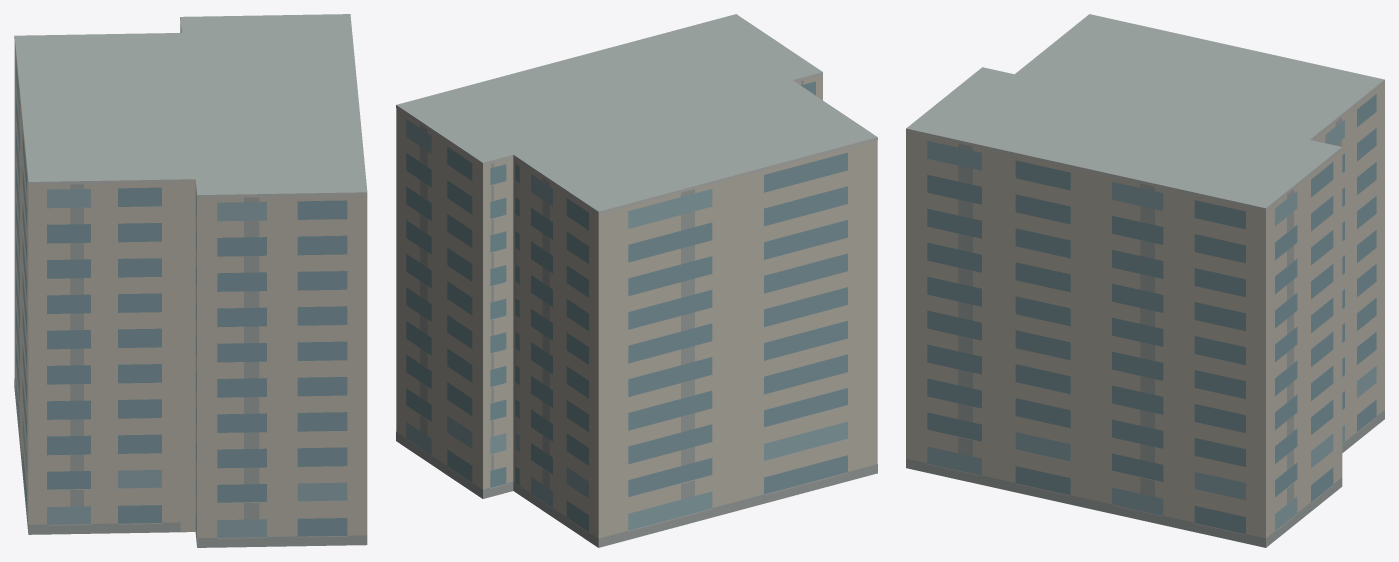
The model's file is residential-e94d6ee8-cdf1-474d-9409-2f970b8af19c.glb.
The picture shows the model from 3 angles, left to right: view 1: azimuth 30°, elevation 25°; view 2: azimuth 150°, elevation 25°; view 3: azimuth 270°, elevation 25°; orthographic projection. The views are drawn at different scales.
Parts seen in each view (by area): view 1: residential-e94d6ee8-cdf1-474d-9409-2f970b8af19c.tmp; view 2: residential-e94d6ee8-cdf1-474d-9409-2f970b8af19c.tmp; view 3: residential-e94d6ee8-cdf1-474d-9409-2f970b8af19c.tmp.
Boxes of the visible parts, <box> form: residential-e94d6ee8-cdf1-474d-9409-2f970b8af19c.tmp: <box>14,14,367,547</box>; residential-e94d6ee8-cdf1-474d-9409-2f970b8af19c.tmp: <box>396,14,877,547</box>; residential-e94d6ee8-cdf1-474d-9409-2f970b8af19c.tmp: <box>906,14,1384,547</box>.
Bounding box in the file's own units: 33.14 × 27 × 34.51.
